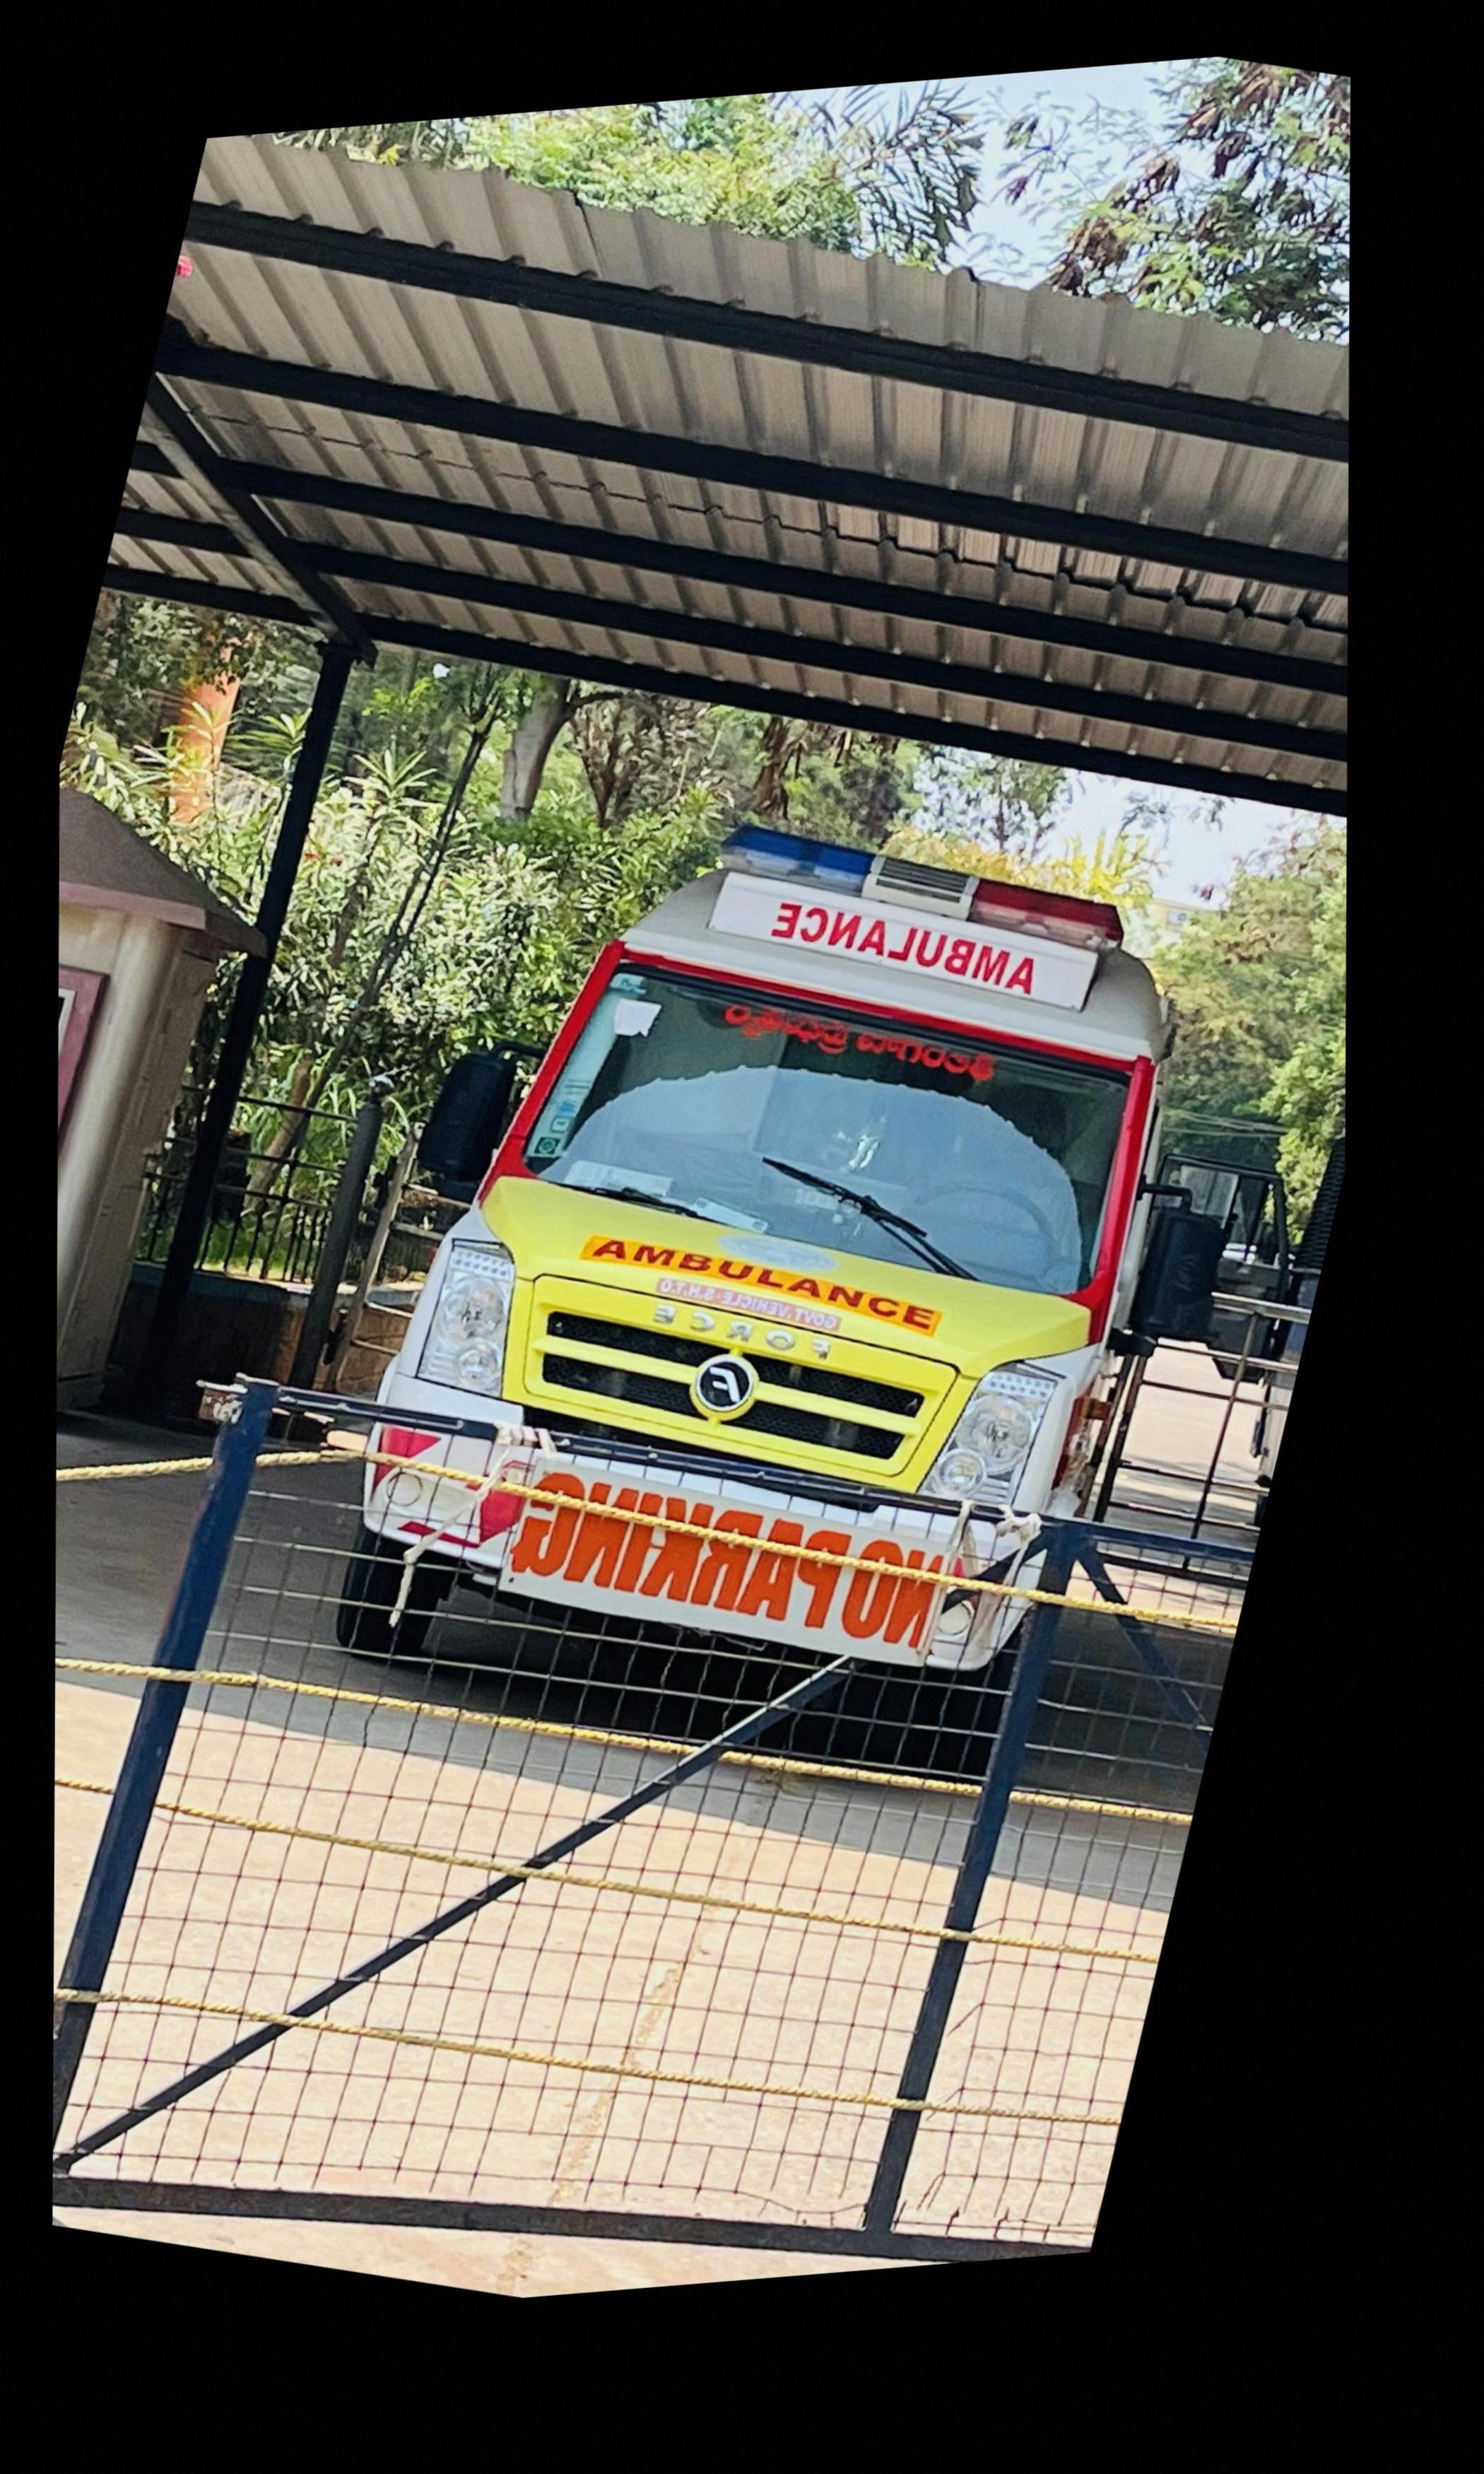ambulance: (339, 816, 1150, 1672)
